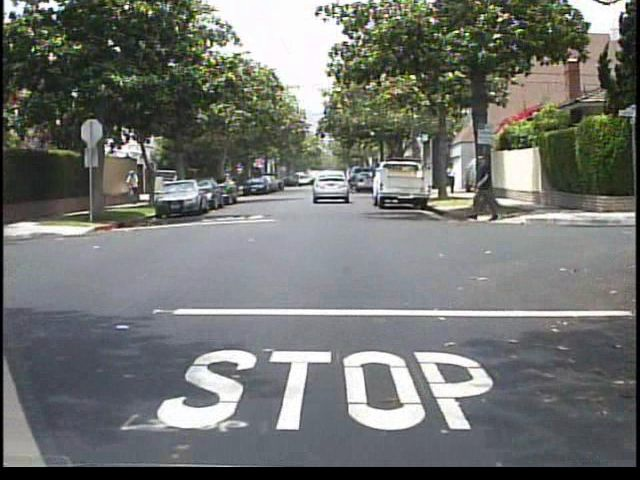person: (460, 152, 504, 223), (125, 168, 146, 205), (169, 169, 186, 202), (446, 160, 460, 198)
